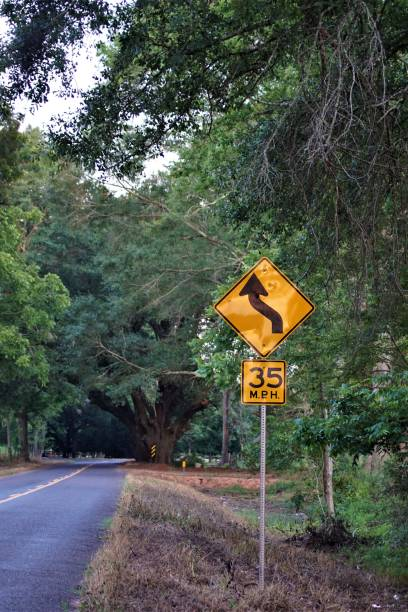left turn: (213, 258, 315, 358)
